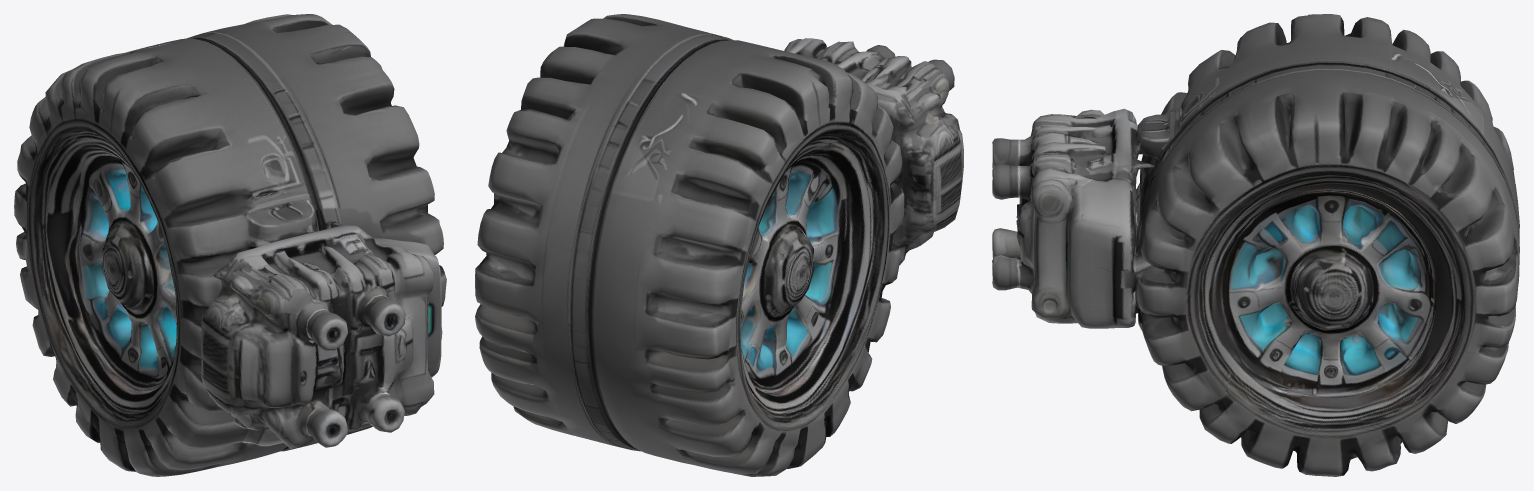
Rendered from Wheel_1.fbx.
3 renders of one model, left to right at view 1: azimuth 30°, elevation 25°; view 2: azimuth 150°, elevation 25°; view 3: azimuth 270°, elevation 25°, orthographic. The views are drawn at different scales.
Visible parts, largest first — view 1: Retopo_neural_node_830185c5-17ea-4ca7-8a93-d43fbb4ea24b; view 2: Retopo_neural_node_830185c5-17ea-4ca7-8a93-d43fbb4ea24b; view 3: Retopo_neural_node_830185c5-17ea-4ca7-8a93-d43fbb4ea24b.
Boxes of the visible parts, left/top/right/bottom form: Retopo_neural_node_830185c5-17ea-4ca7-8a93-d43fbb4ea24b: left=14, top=14, right=446, bottom=476; Retopo_neural_node_830185c5-17ea-4ca7-8a93-d43fbb4ea24b: left=475, top=14, right=963, bottom=476; Retopo_neural_node_830185c5-17ea-4ca7-8a93-d43fbb4ea24b: left=992, top=14, right=1519, bottom=476.
Bounding box in the file's own units: 51.8 × 72.71 × 94.66.
